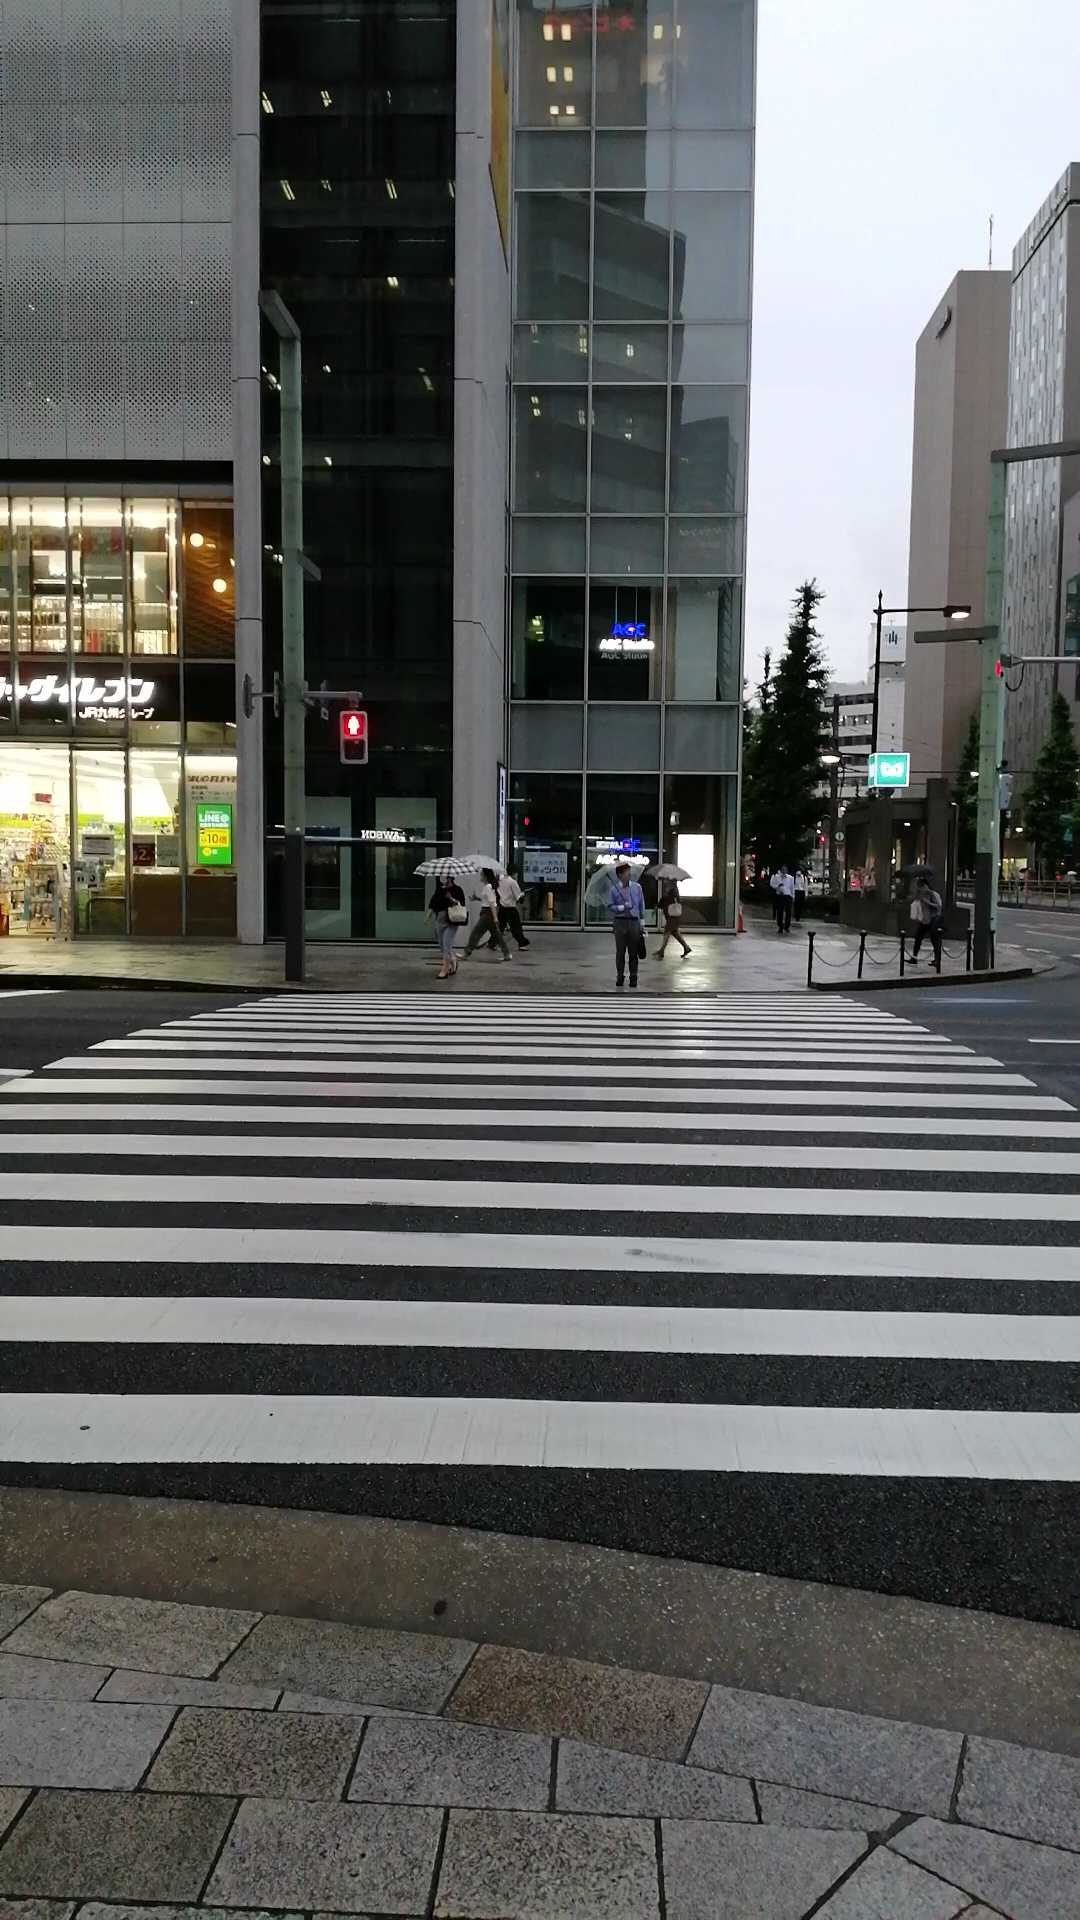red: (338, 709, 369, 766)
